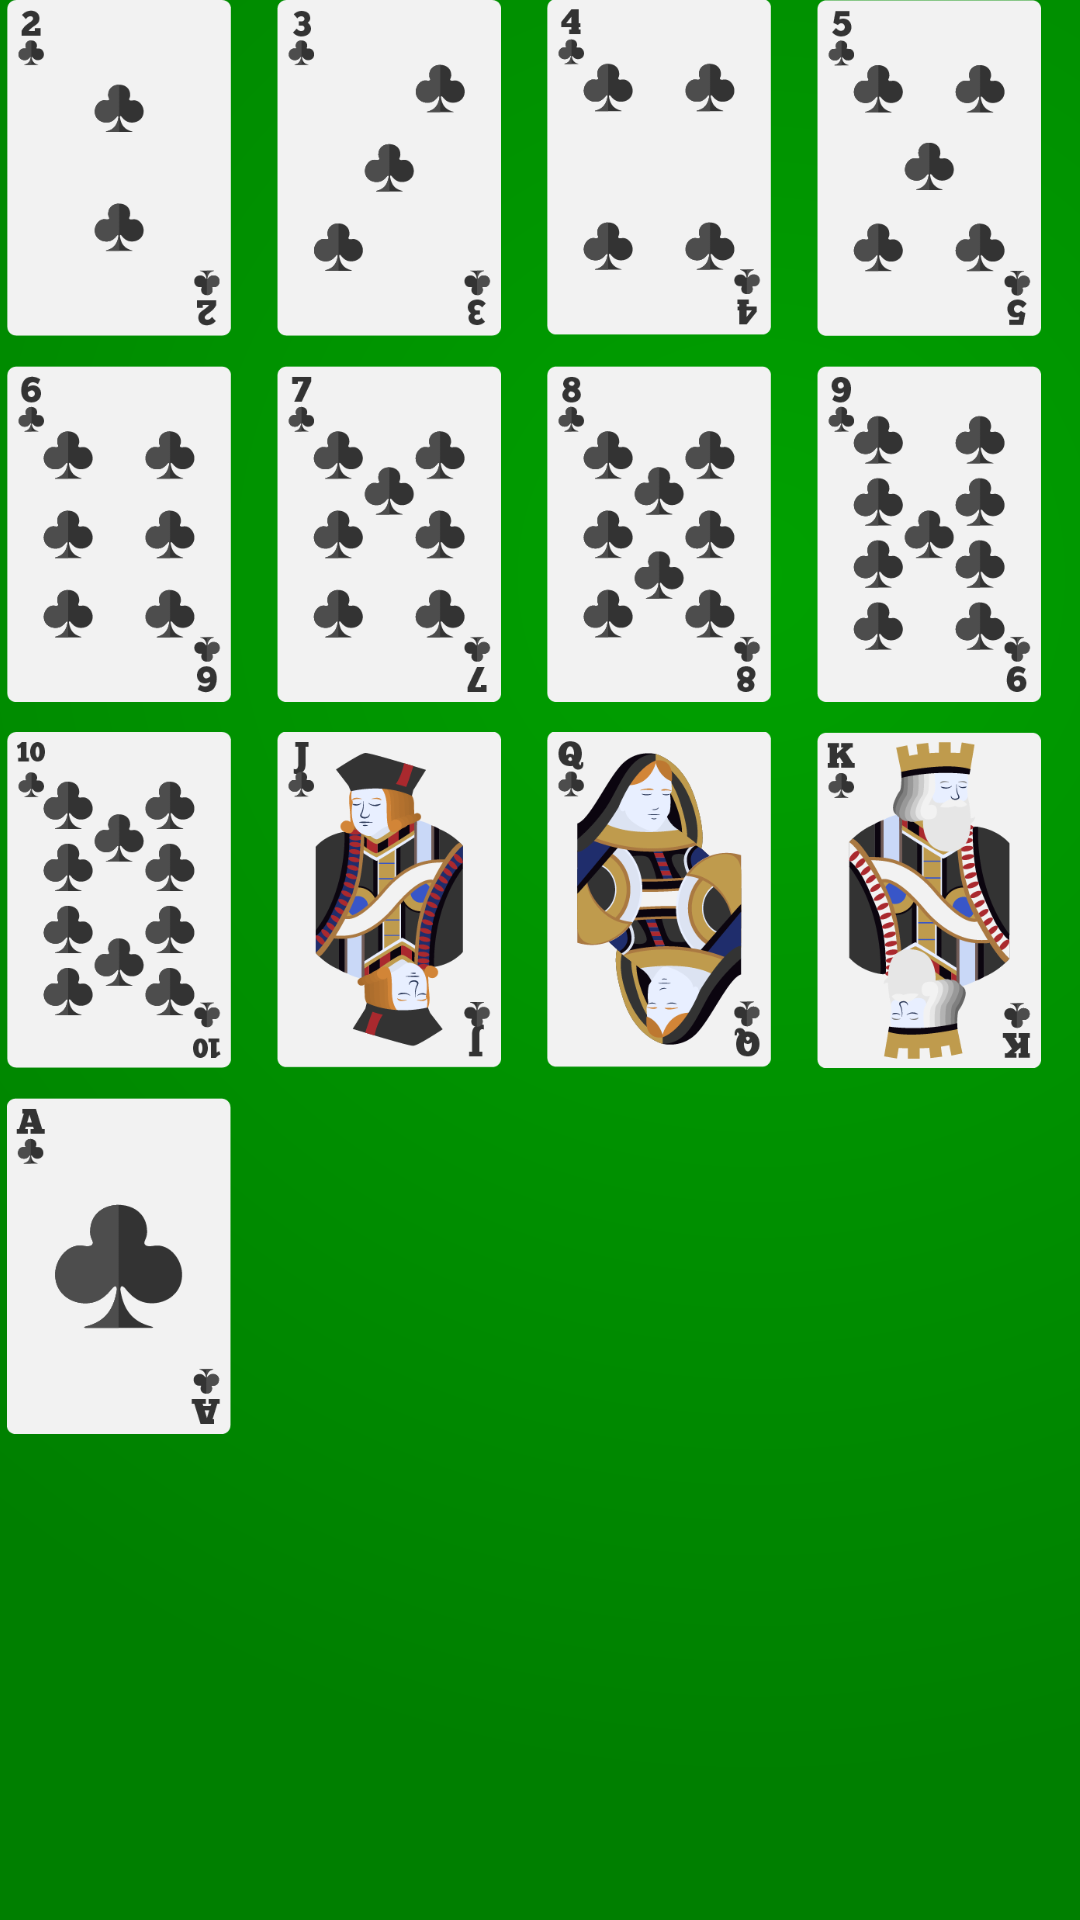

Icons on this 1080 x 1920 Android screen, each with its box as (x1, y1, x2, y2):
clubs ace: (7, 1098, 231, 1434)
clubs jack: (277, 732, 501, 1068)
clubs king: (817, 732, 1041, 1068)
clubs queen: (547, 732, 771, 1067)
